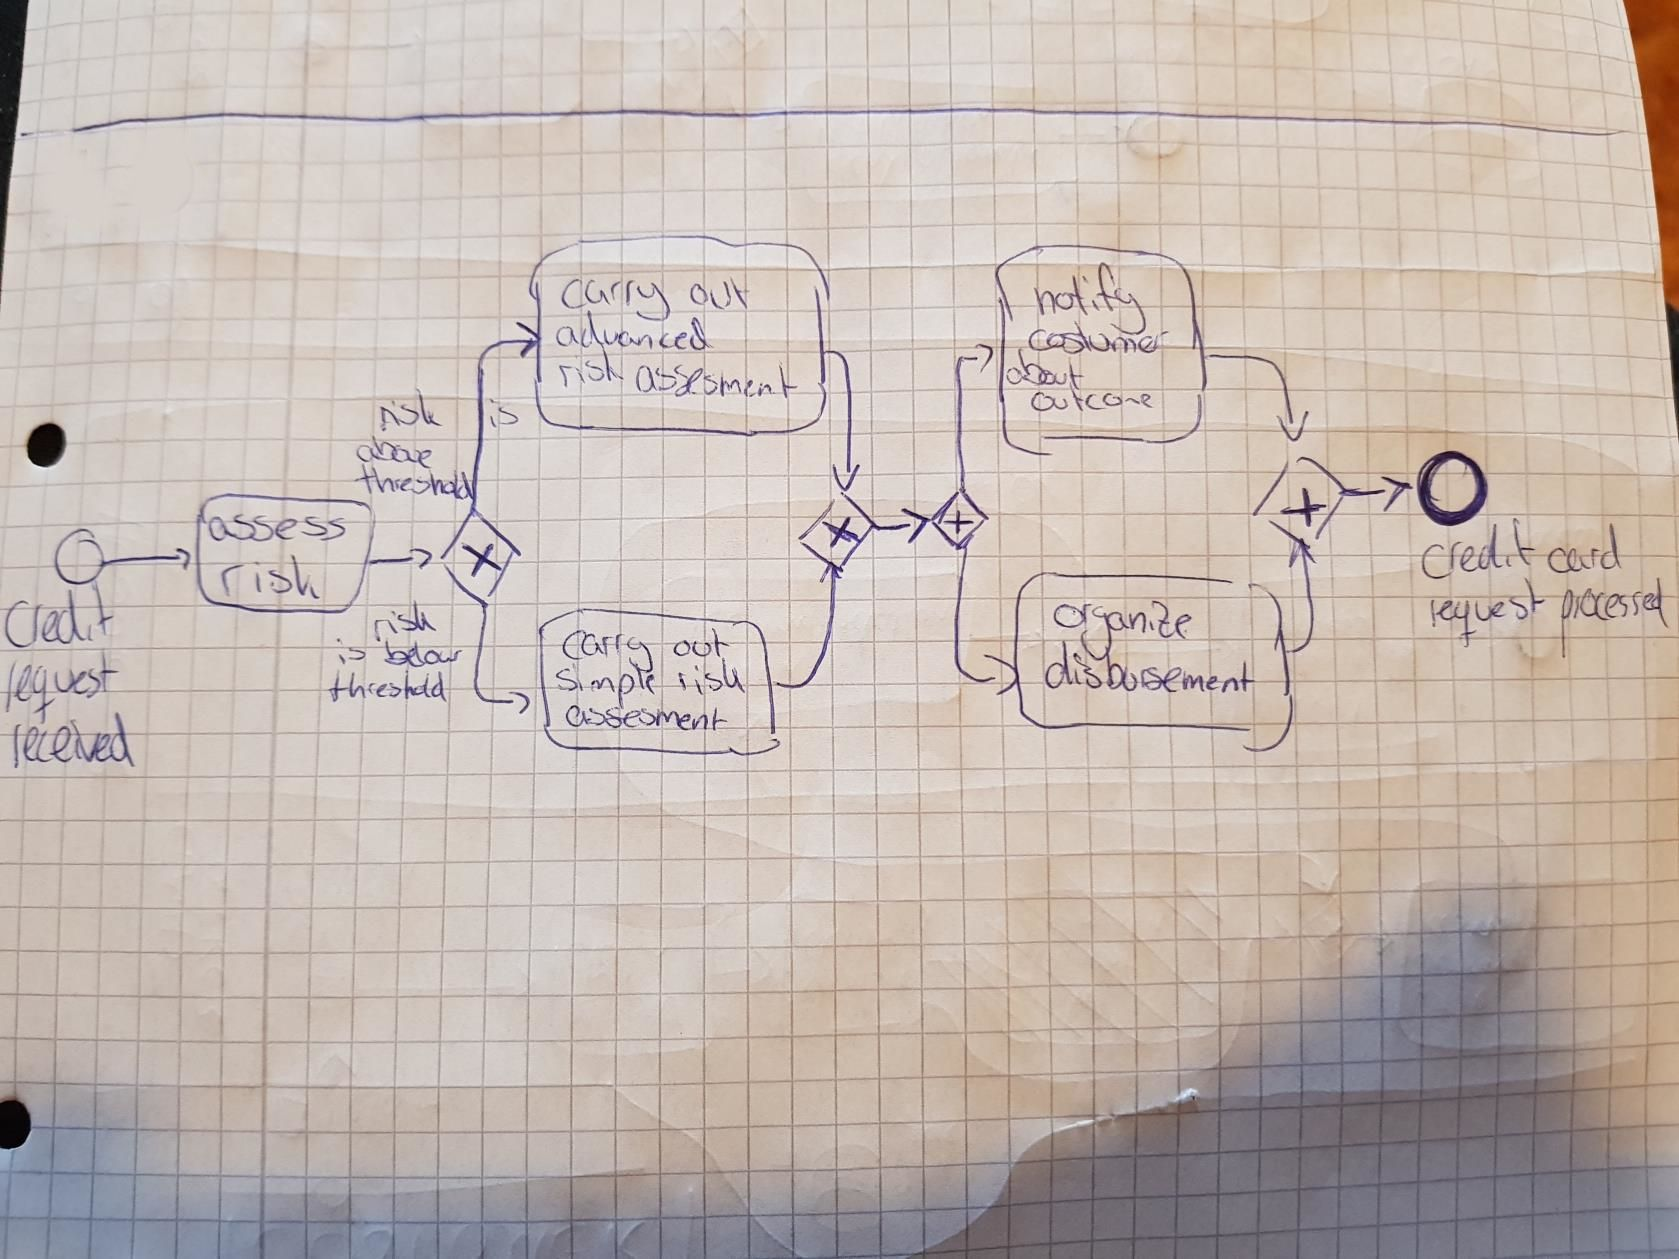about: (1003, 344, 1089, 395)
above: (352, 432, 438, 473)
advanced: (551, 305, 718, 356)
assesment: (631, 356, 804, 406), (561, 700, 728, 737)
assess: (204, 510, 353, 548)
below: (378, 635, 468, 672)
card: (1544, 521, 1630, 577)
carry: (558, 272, 676, 327), (557, 626, 658, 678)
costumer: (1023, 316, 1174, 360)
credit: (3, 574, 122, 655), (1415, 513, 1542, 585)
disbursement: (1038, 635, 1261, 700)
is: (484, 395, 524, 431), (331, 635, 371, 668)
notify: (1029, 259, 1150, 340)
organize: (1048, 595, 1196, 665)
out: (686, 274, 754, 317), (668, 626, 736, 663)
outcome: (1027, 378, 1159, 417)
processed: (1553, 573, 1674, 664)
received: (8, 708, 140, 774)
request: (4, 643, 124, 729), (1425, 573, 1551, 652)
risk: (215, 551, 327, 604), (375, 384, 446, 436), (672, 655, 752, 700), (369, 598, 442, 647), (554, 349, 628, 391)
simple: (550, 659, 662, 714)
threshold: (356, 459, 479, 505), (325, 667, 452, 708)
